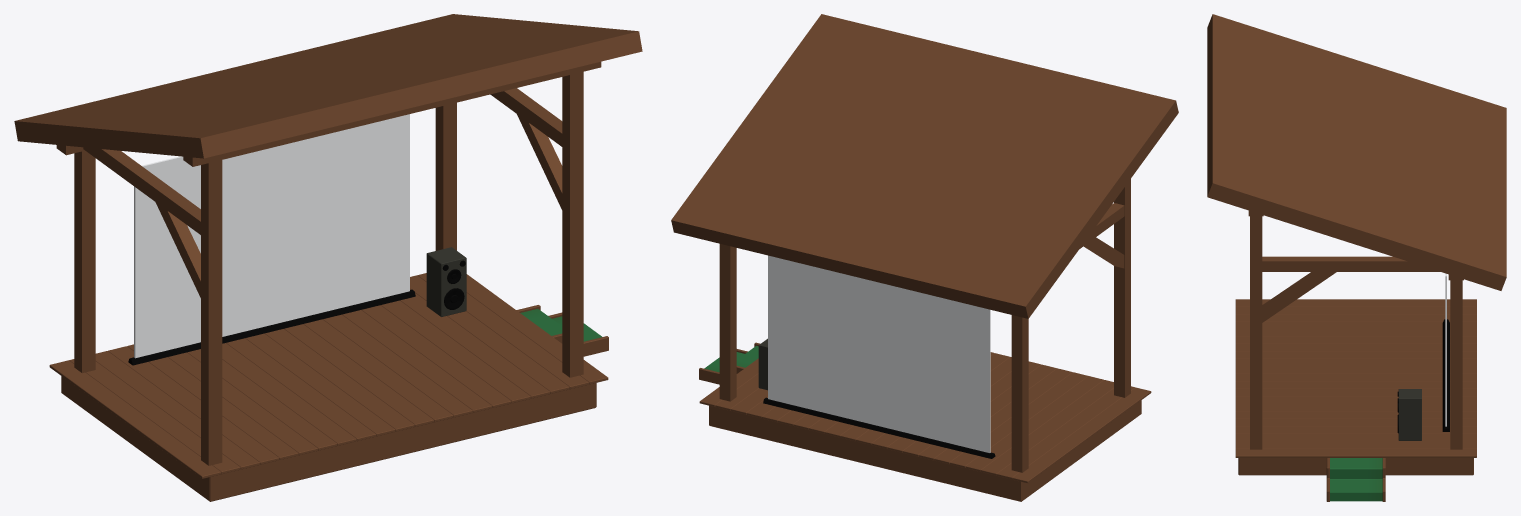
The picture shows the model from 3 angles, left to right: view 1: azimuth 30°, elevation 25°; view 2: azimuth 150°, elevation 25°; view 3: azimuth 270°, elevation 25°; orthographic projection. The views are drawn at different scales.
Visible parts, largest first — view 1: Scene, Billboard_scene, Column; view 2: Scene, Billboard_scene; view 3: Scene, Column, Billboard_scene.
Boxes of the visible parts, left/top/right/bottom form: Scene: left=14, top=14, right=642, bottom=501; Billboard_scene: left=128, top=114, right=415, bottom=365; Column: left=426, top=247, right=466, bottom=316; Scene: left=671, top=14, right=1178, bottom=501; Billboard_scene: left=763, top=255, right=995, bottom=458; Scene: left=1207, top=14, right=1506, bottom=501; Column: left=1397, top=389, right=1421, bottom=440; Billboard_scene: left=1442, top=273, right=1449, bottom=431.
Bounding box in the file's own units: 658 × 500 × 449.
